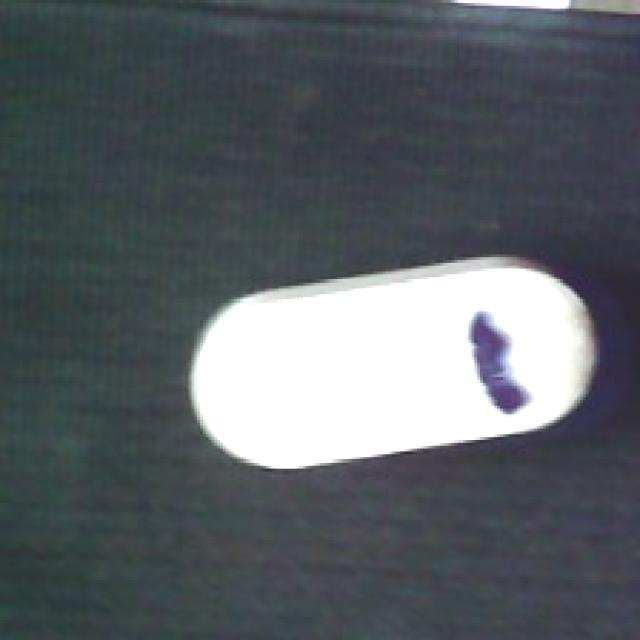defected: (183, 257, 608, 468)
